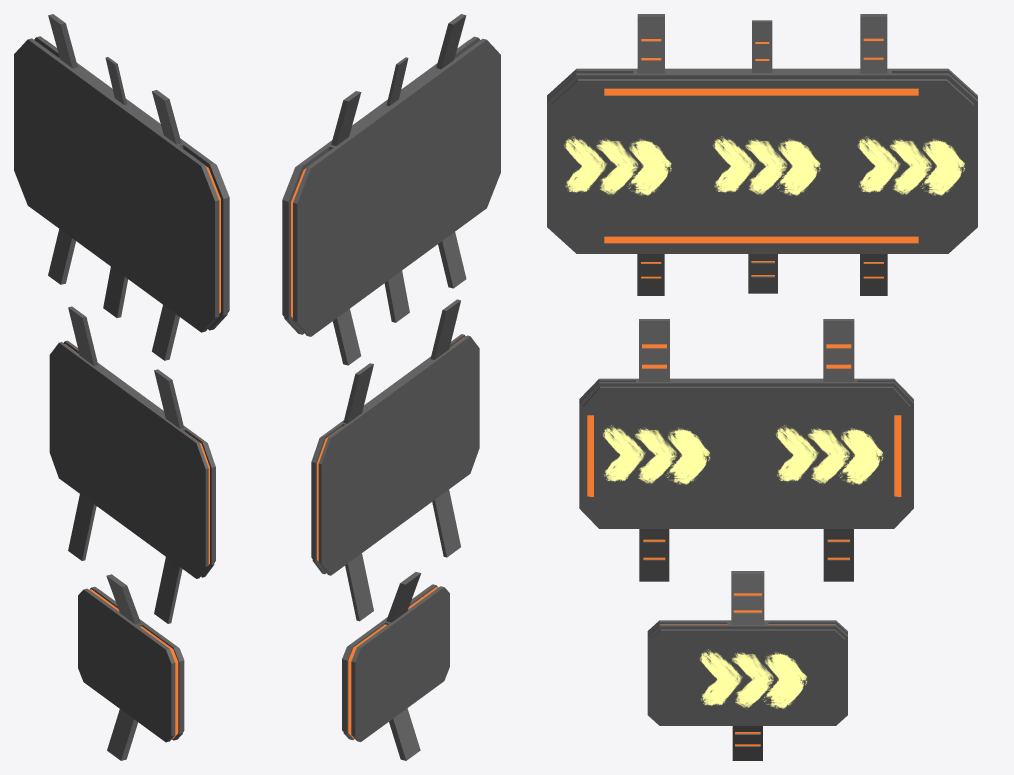
File: WallRunTiles.glb
3 renders of one model, left to right at view 1: azimuth 30°, elevation 25°; view 2: azimuth 150°, elevation 25°; view 3: azimuth 270°, elevation 25°, orthographic. The views are drawn at different scales.
Visible parts, largest first — view 1: WallRunPanelBig01, WallRunPanelMedium01, WallRunPanelSmall01; view 2: WallRunPanelBig01, WallRunPanelMedium01, WallRunPanelSmall01; view 3: WallRunPanelBig01, WallRunPanelMedium01, WallRunPanelSmall01, Upgrade2.003, Upgrade2.002, Upgrade2.005, Upgrade2.001, Upgrade2, Upgrade2.004.
Part boxes in pixels (x1=…): WallRunPanelBig01: x1=14, y1=14, x2=229, y2=360; WallRunPanelMedium01: x1=49, y1=306, x2=215, y2=623; WallRunPanelSmall01: x1=78, y1=574, x2=184, y2=760; WallRunPanelBig01: x1=282, y1=14, x2=500, y2=365; WallRunPanelMedium01: x1=311, y1=299, x2=479, y2=621; WallRunPanelSmall01: x1=342, y1=572, x2=449, y2=760; WallRunPanelBig01: x1=547, y1=14, x2=977, y2=295; WallRunPanelMedium01: x1=579, y1=319, x2=913, y2=581; WallRunPanelSmall01: x1=647, y1=571, x2=847, y2=760; Upgrade2.003: x1=713, y1=136, x2=820, y2=195; Upgrade2.002: x1=564, y1=136, x2=671, y2=195; Upgrade2.005: x1=699, y1=649, x2=807, y2=708; Upgrade2.001: x1=776, y1=425, x2=883, y2=484; Upgrade2: x1=603, y1=425, x2=710, y2=484; Upgrade2.004: x1=857, y1=136, x2=964, y2=195.
Size of the model in its own units: 0.617 by 14.91 by 8.56.
Materials: 3 (1 with a texture image).
